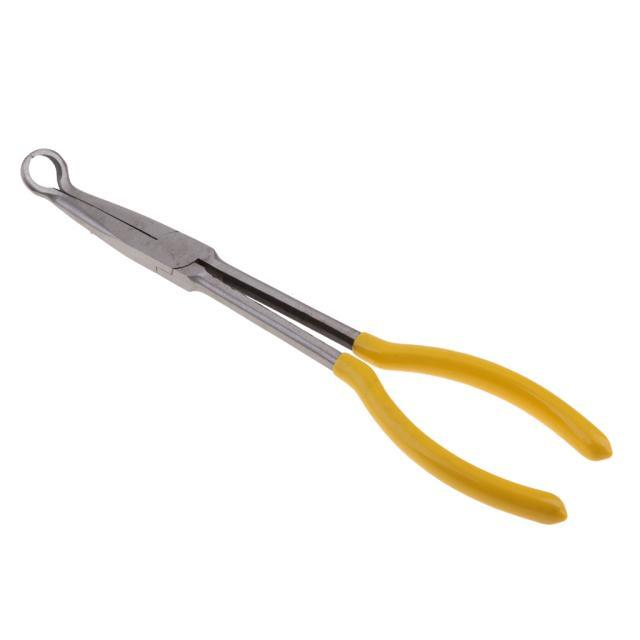pliers: (18, 142, 618, 530)
